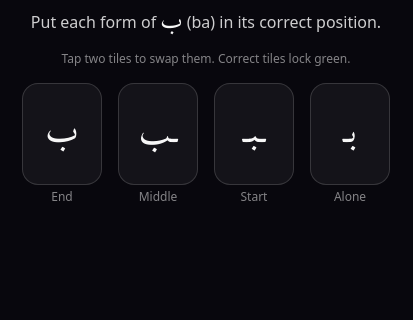
Scenario: FormSwap › solving via swaps locks tiles green and offers next letter
Swap Alone↔End: puts ب into Alone (correct) → no shake, green lock
Click the button with aria-label "Alone slot" at (350, 134), box [310, 83, 390, 185]
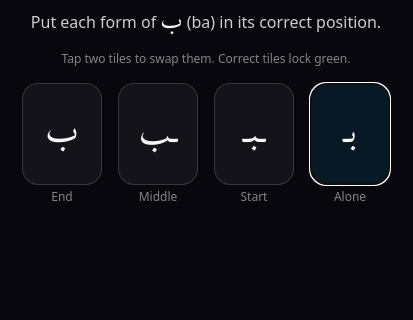
Click the button named "End slot" at (62, 134), box [22, 83, 102, 185]
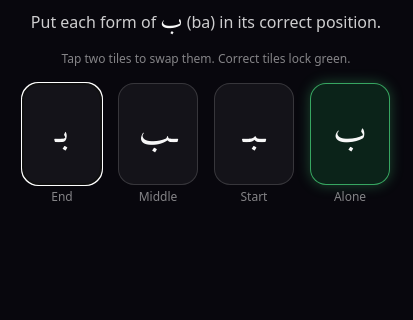
Now the button named "Alone slot" has class "game-correct", box [310, 83, 390, 185]
Swap Start↔End, then Middle↔End → solved
Click the button with aria-label "Start slot" at (254, 134), box [214, 83, 294, 185]
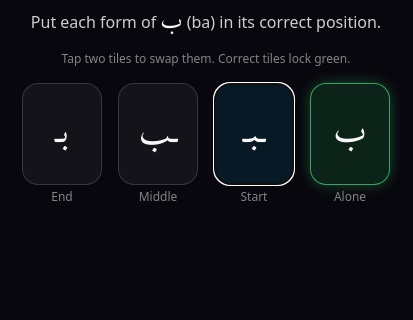
Click the button with aria-label "End slot" at (62, 134), box [22, 83, 102, 185]
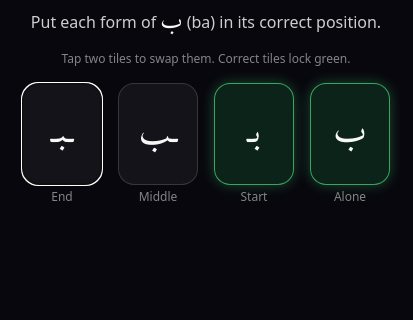
Click the button with aria-label "Middle slot" at (158, 134), box [118, 83, 198, 185]
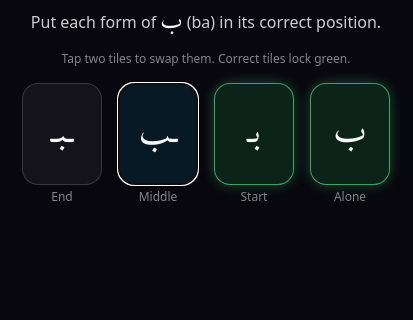
Click the button with aria-label "End slot" at (62, 134), box [22, 83, 102, 185]
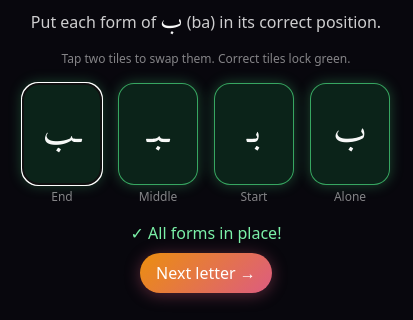
Now the text "✓ All forms in place!" is shown, box [130, 222, 281, 244]
Now the button "Next letter →" is shown, box [140, 253, 272, 293]
